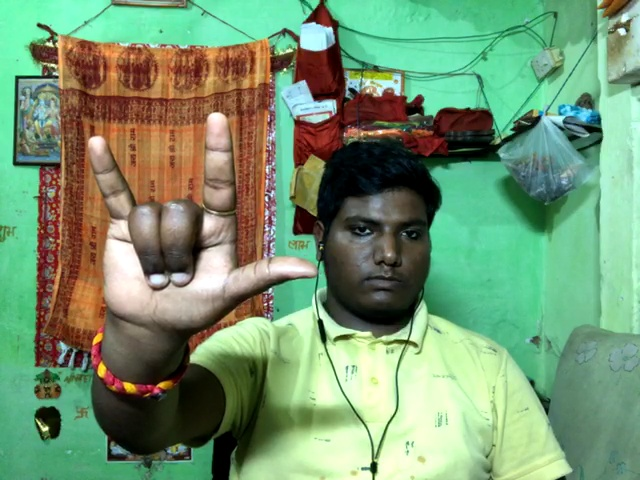I Love You: (58, 113, 326, 344)
